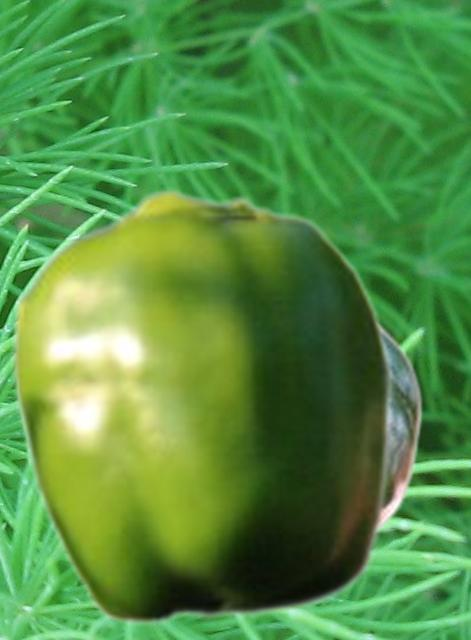bell_pepper: (10, 187, 394, 626), (382, 324, 422, 533)
